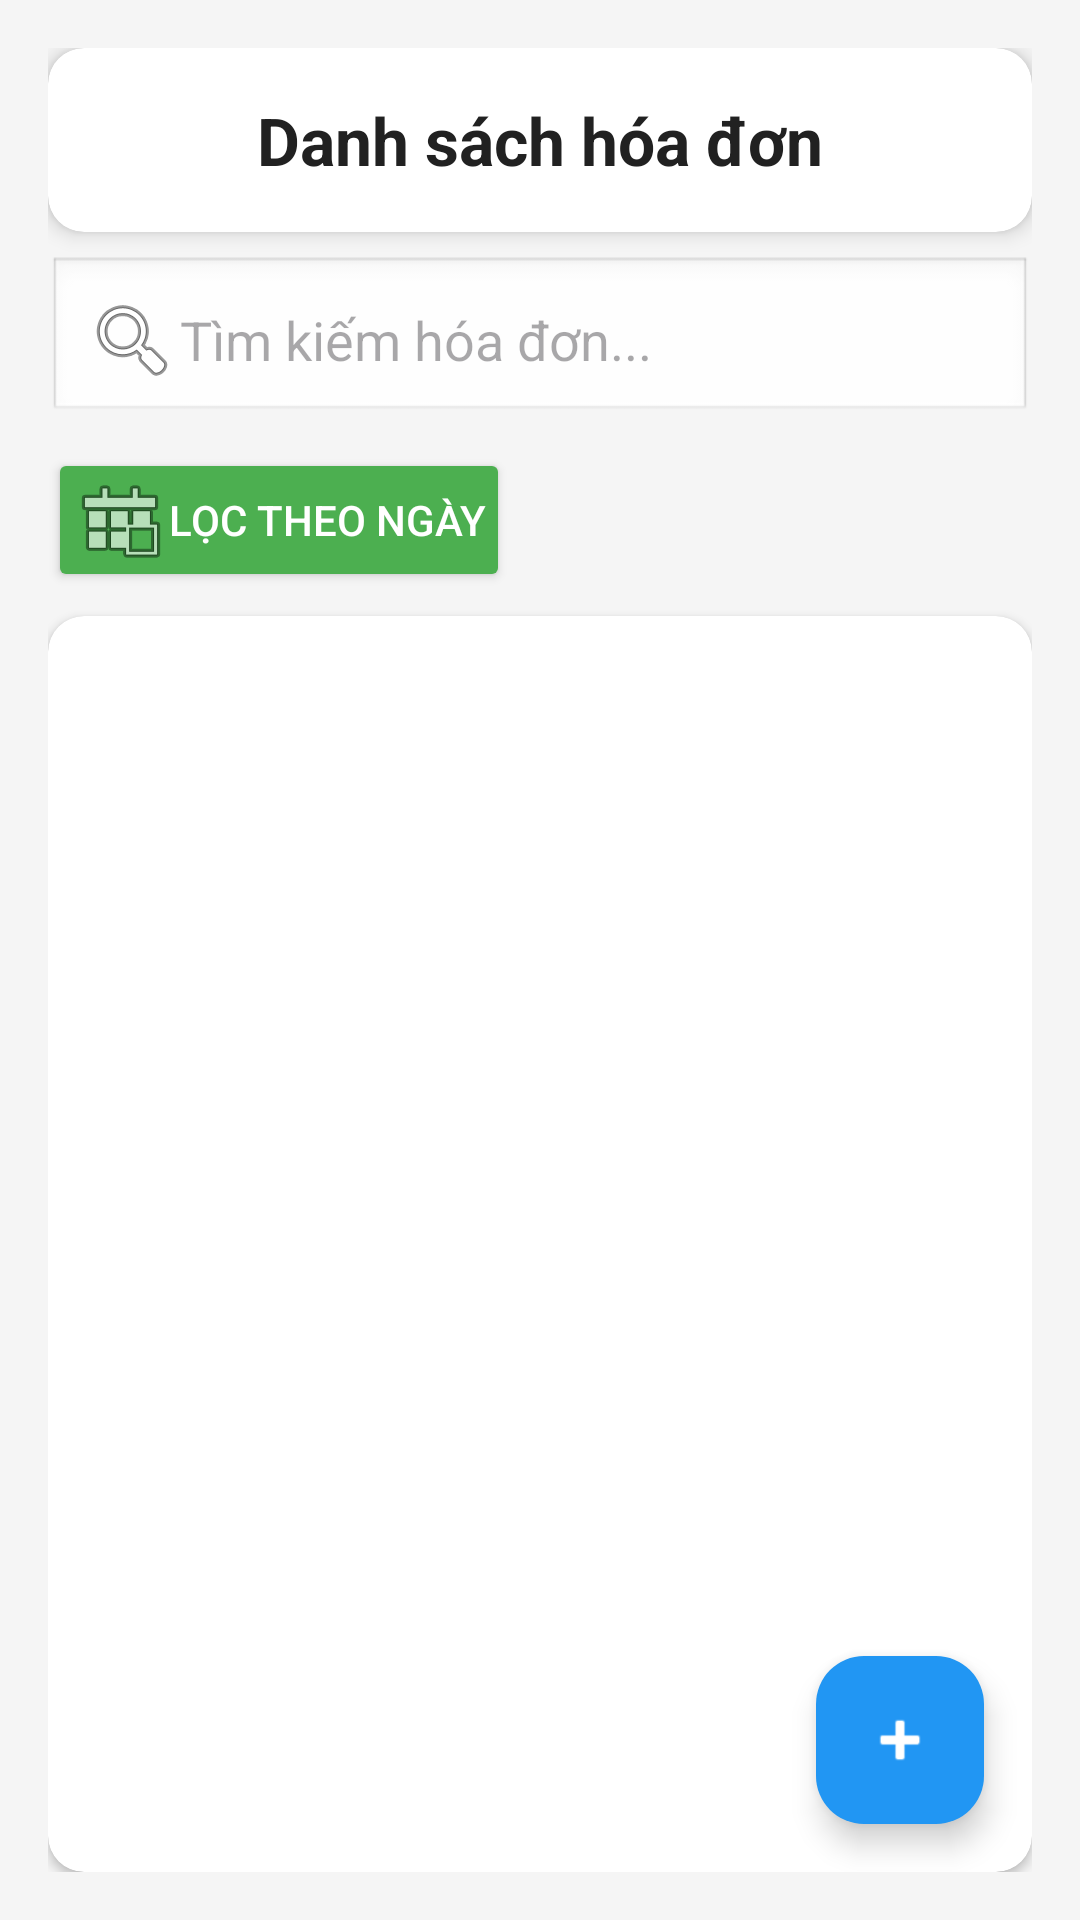

Locate icon controls on the screen. Image size 1080px x 1920px, boxes as (x1, y1, x2, y2).
Thêm hóa đơn: (816, 1656, 984, 1824)
